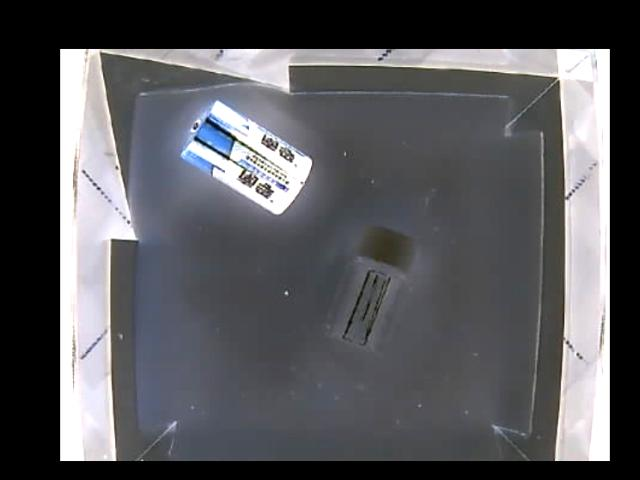Battery: (178, 99, 315, 212)
Bottle: (328, 232, 420, 349)
